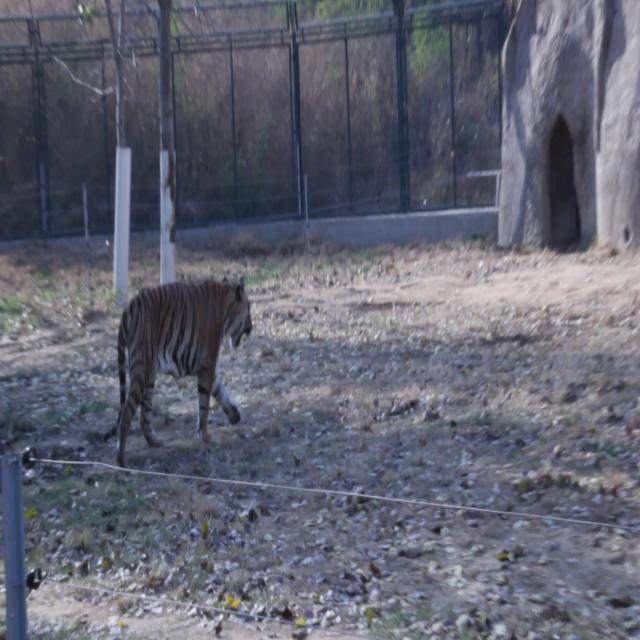Tiger: (91, 265, 257, 467)
